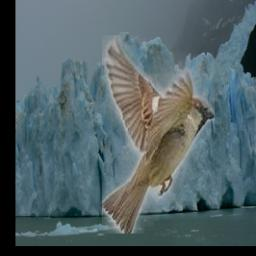Sparrow: (103, 36, 216, 235)
